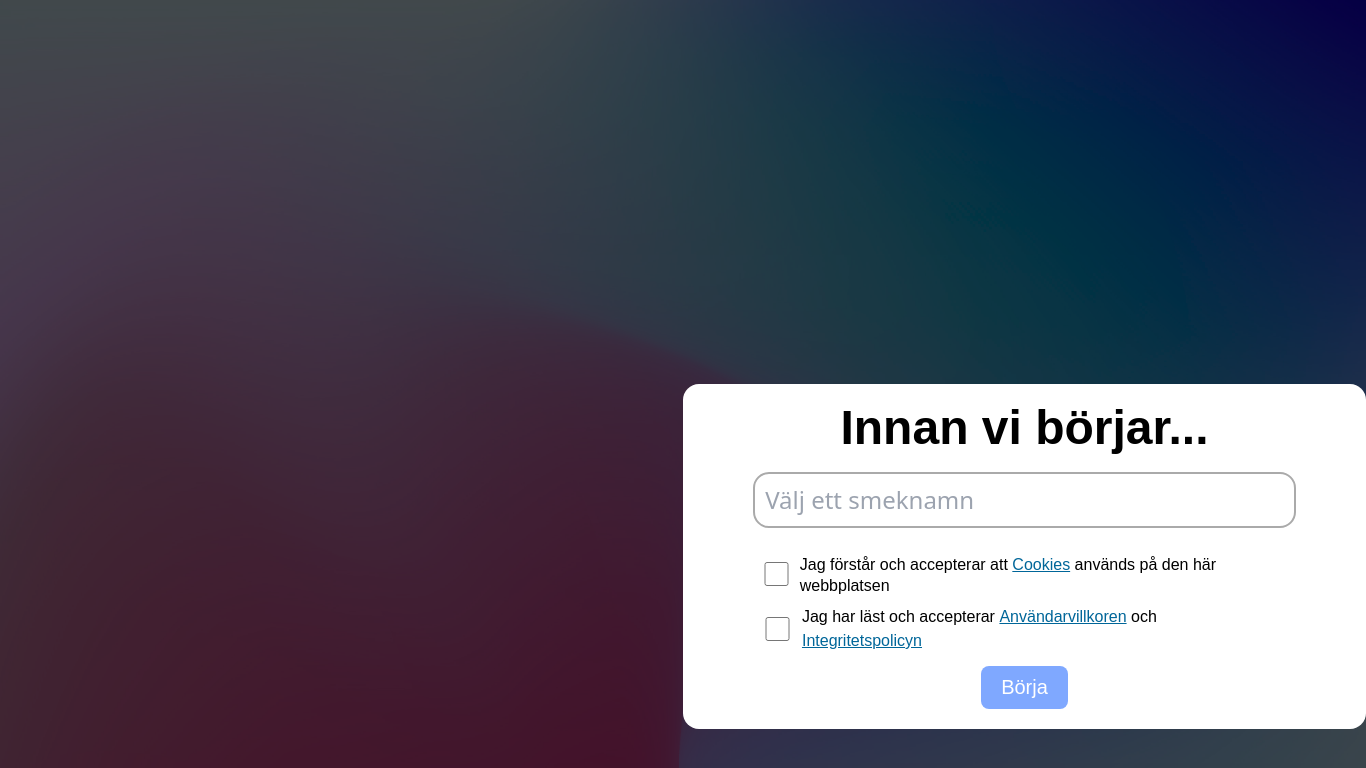
Scenario: registration › filling out form enables button
Type "nisse" into the field labelled "Välj ett smeknamn" at (1025, 500), box [753, 472, 1296, 528]
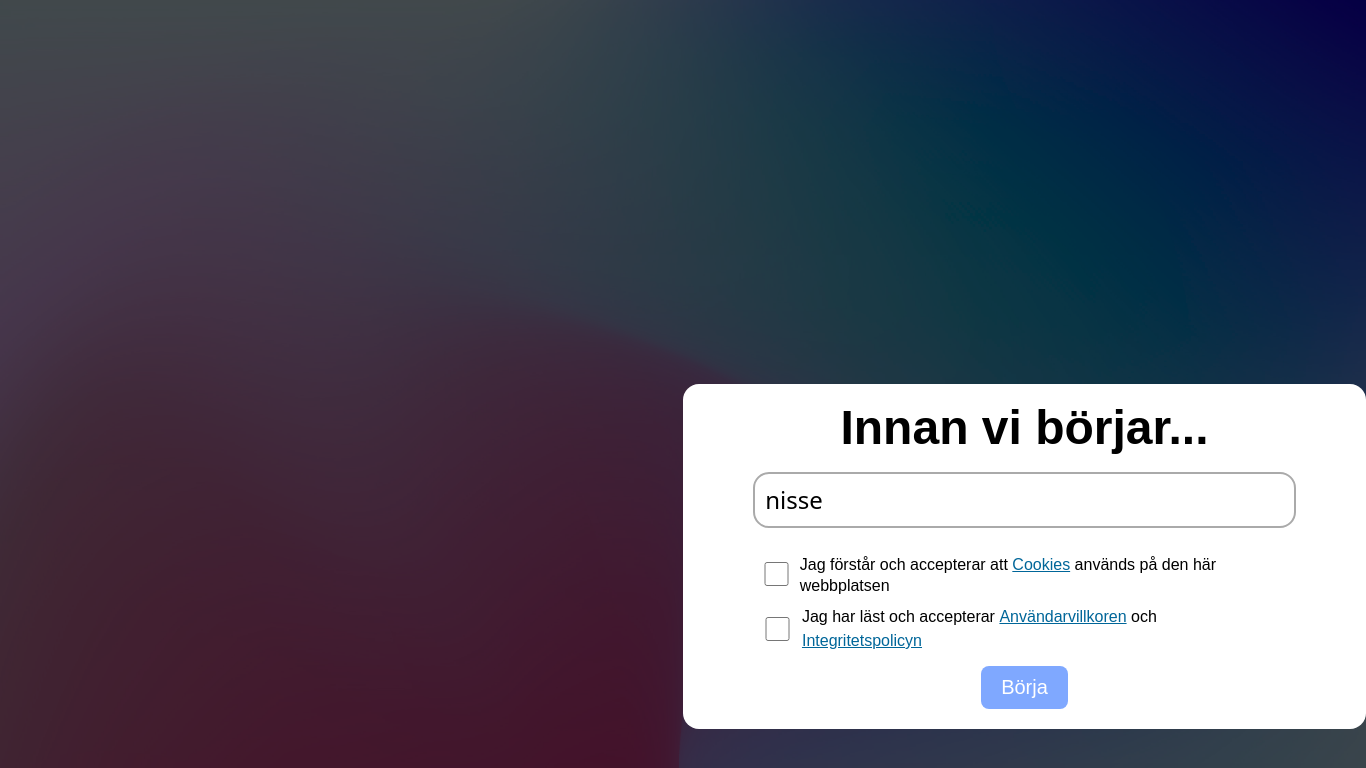
Click the checkbox labelled "Cookies" at (776, 574), box [758, 562, 795, 586]
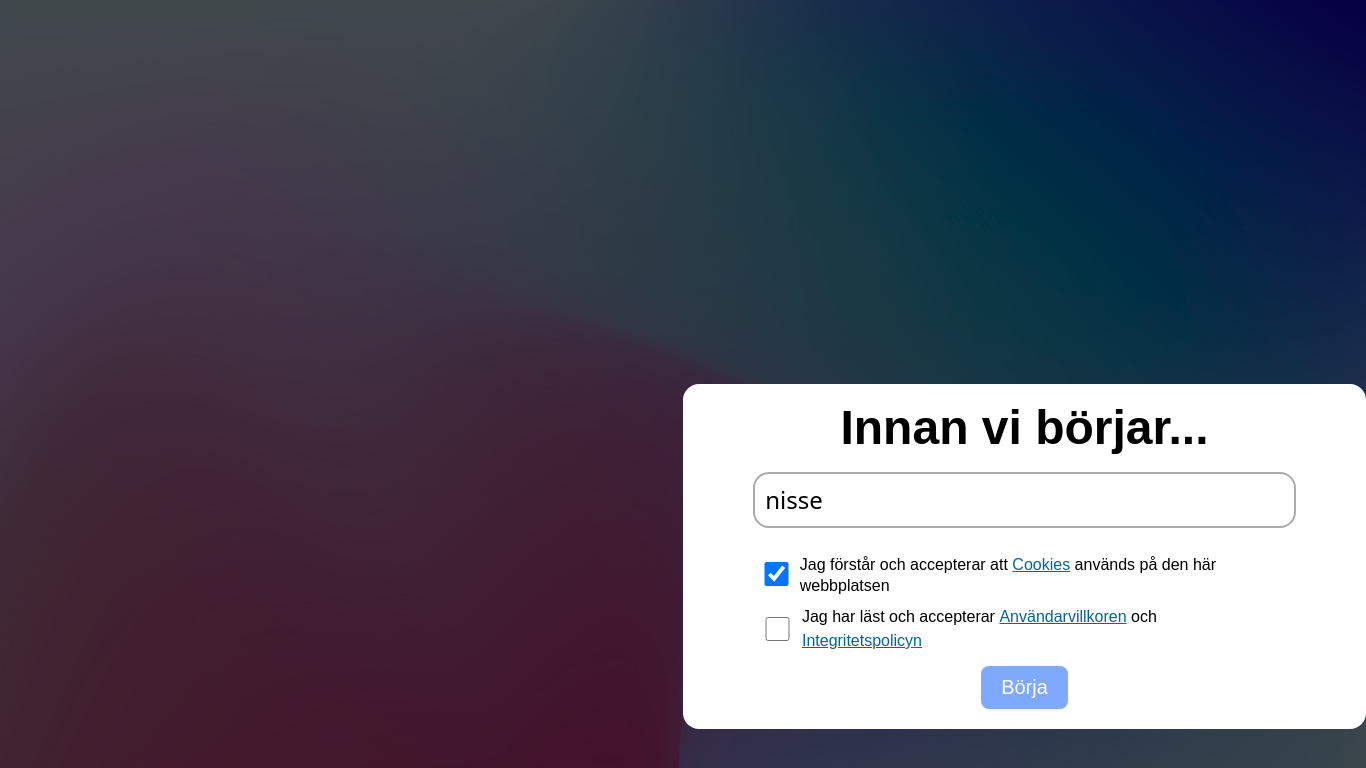
Click the checkbox labelled "Användarvillkoren" at (778, 629), box [758, 617, 797, 641]
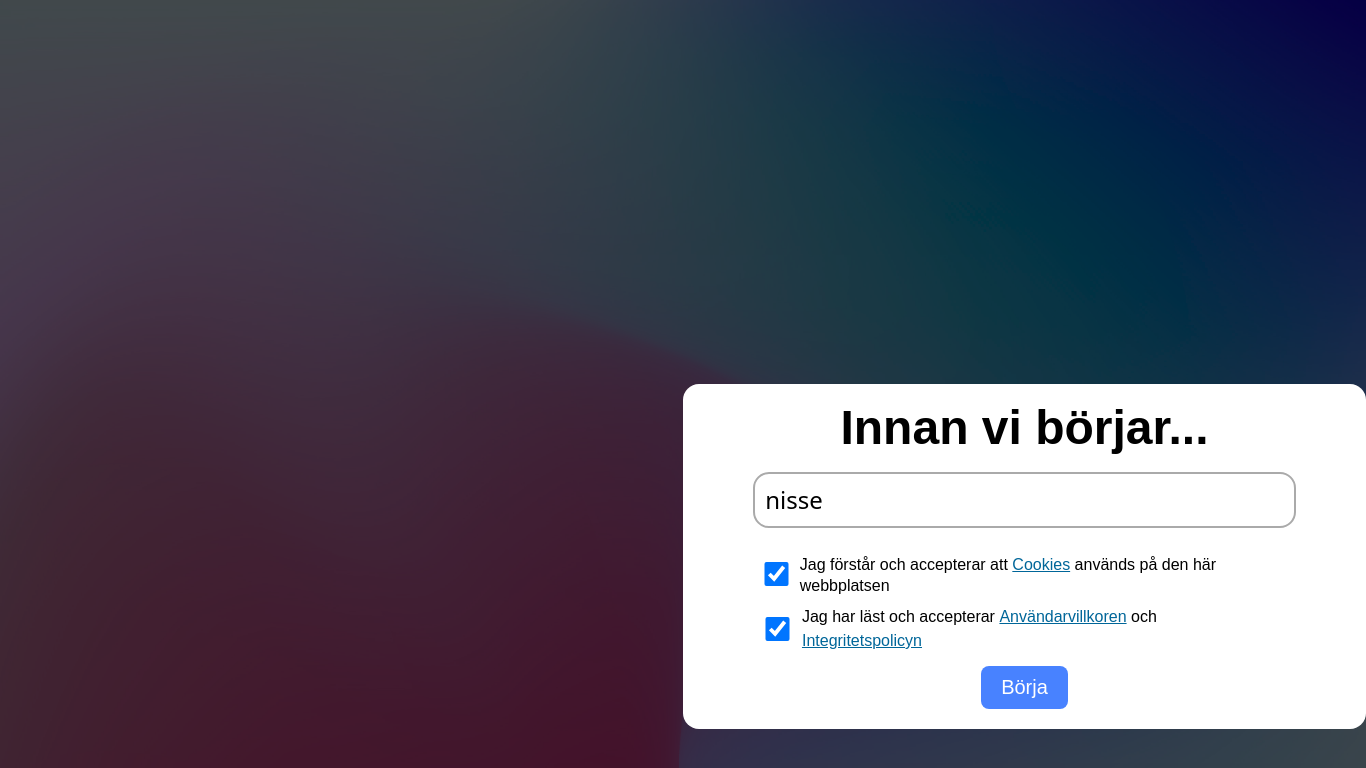
Now the button "Börja" is enabled, box [981, 666, 1068, 709]
